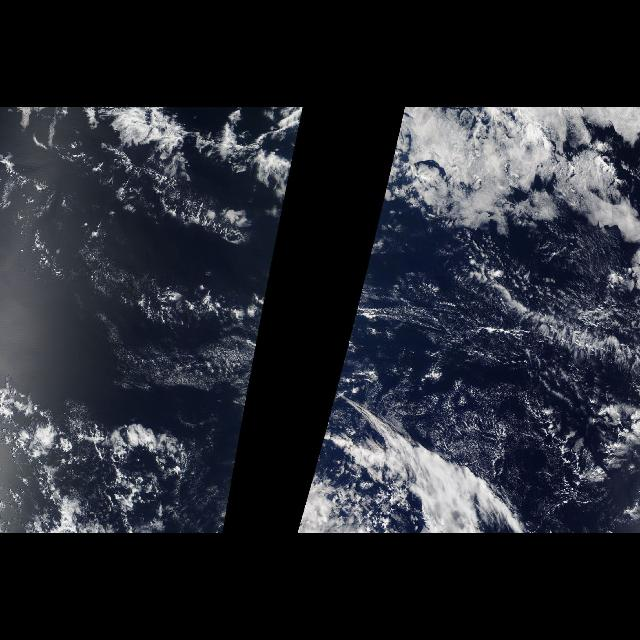Sugar: (49, 223, 237, 419), (368, 317, 534, 425)
